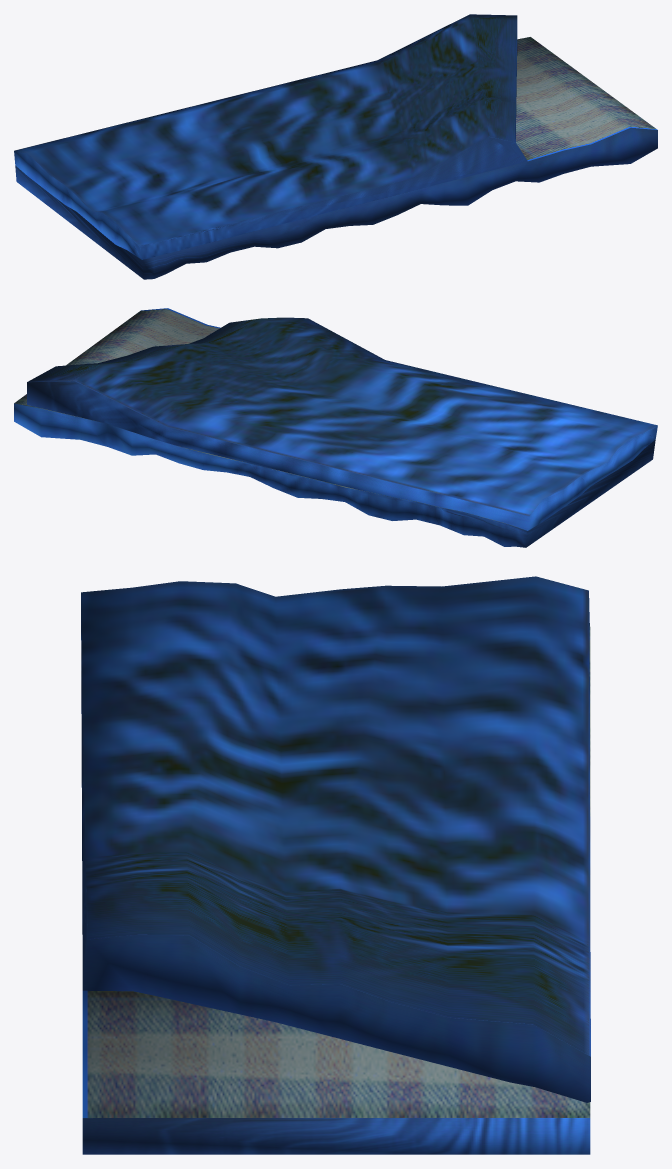
File: WorldItem_Sleepingbag.fbx
The picture shows the model from 3 angles, top to bottom: view 1: azimuth 30°, elevation 25°; view 2: azimuth 150°, elevation 25°; view 3: azimuth 270°, elevation 25°; orthographic projection. The views are drawn at different scales.
Parts seen in each view (by area): view 1: Cube.002; view 2: Cube.002; view 3: Cube.002.
Part boxes in pixels (x1,y1,x2,y2): Cube.002: [14, 14, 657, 279]; Cube.002: [14, 308, 657, 547]; Cube.002: [81, 576, 590, 1154].
Bounding box in the file's own units: 3.24 × 0.4569 × 1.39.
